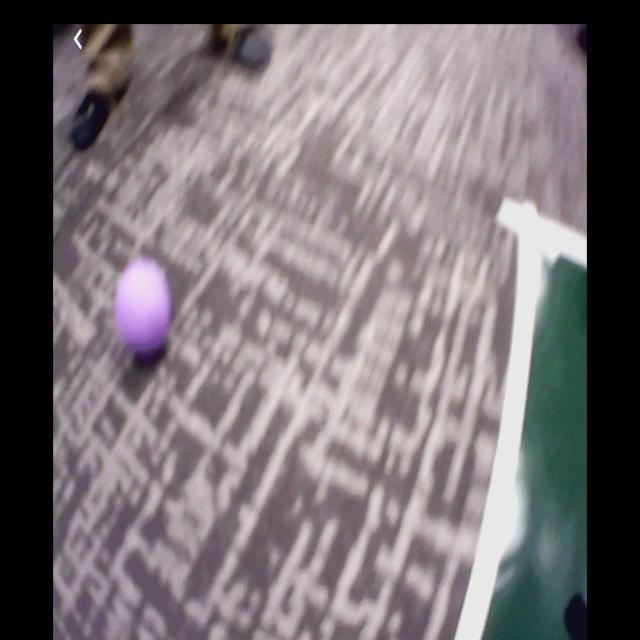ball: (117, 260, 172, 351)
